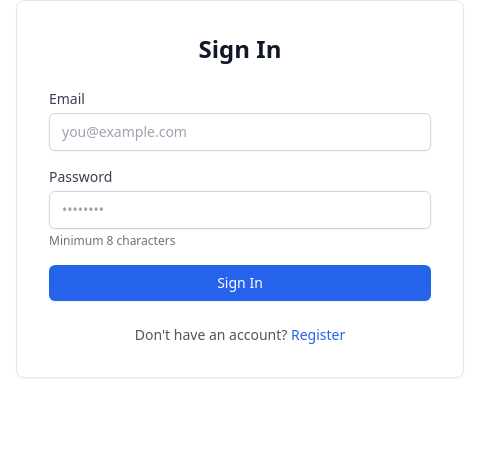
it: AuthForm › mode toggling › clears errors when toggling modes
Click the button "Sign In".
click(240, 283)  # box left=49, top=265, right=431, bottom=301
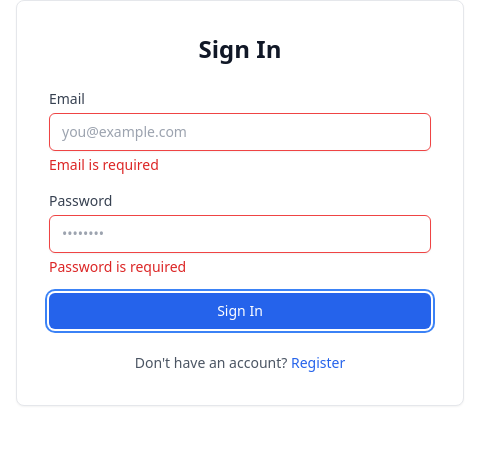
Result: the text "Email is required" is shown at left=49, top=155, right=159, bottom=174
Click the button with aria-label "switch to register form".
click(318, 363)  # box left=291, top=353, right=345, bottom=373
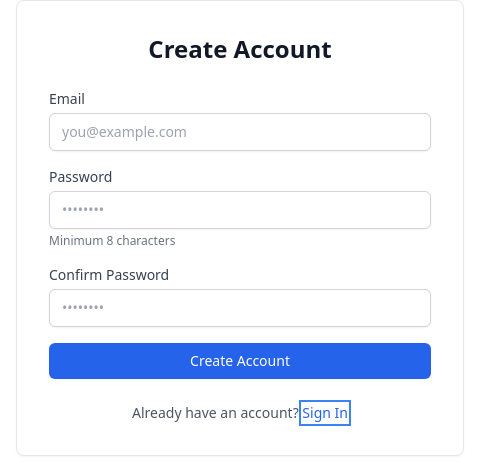
Result: the text "Email is required" is gone
